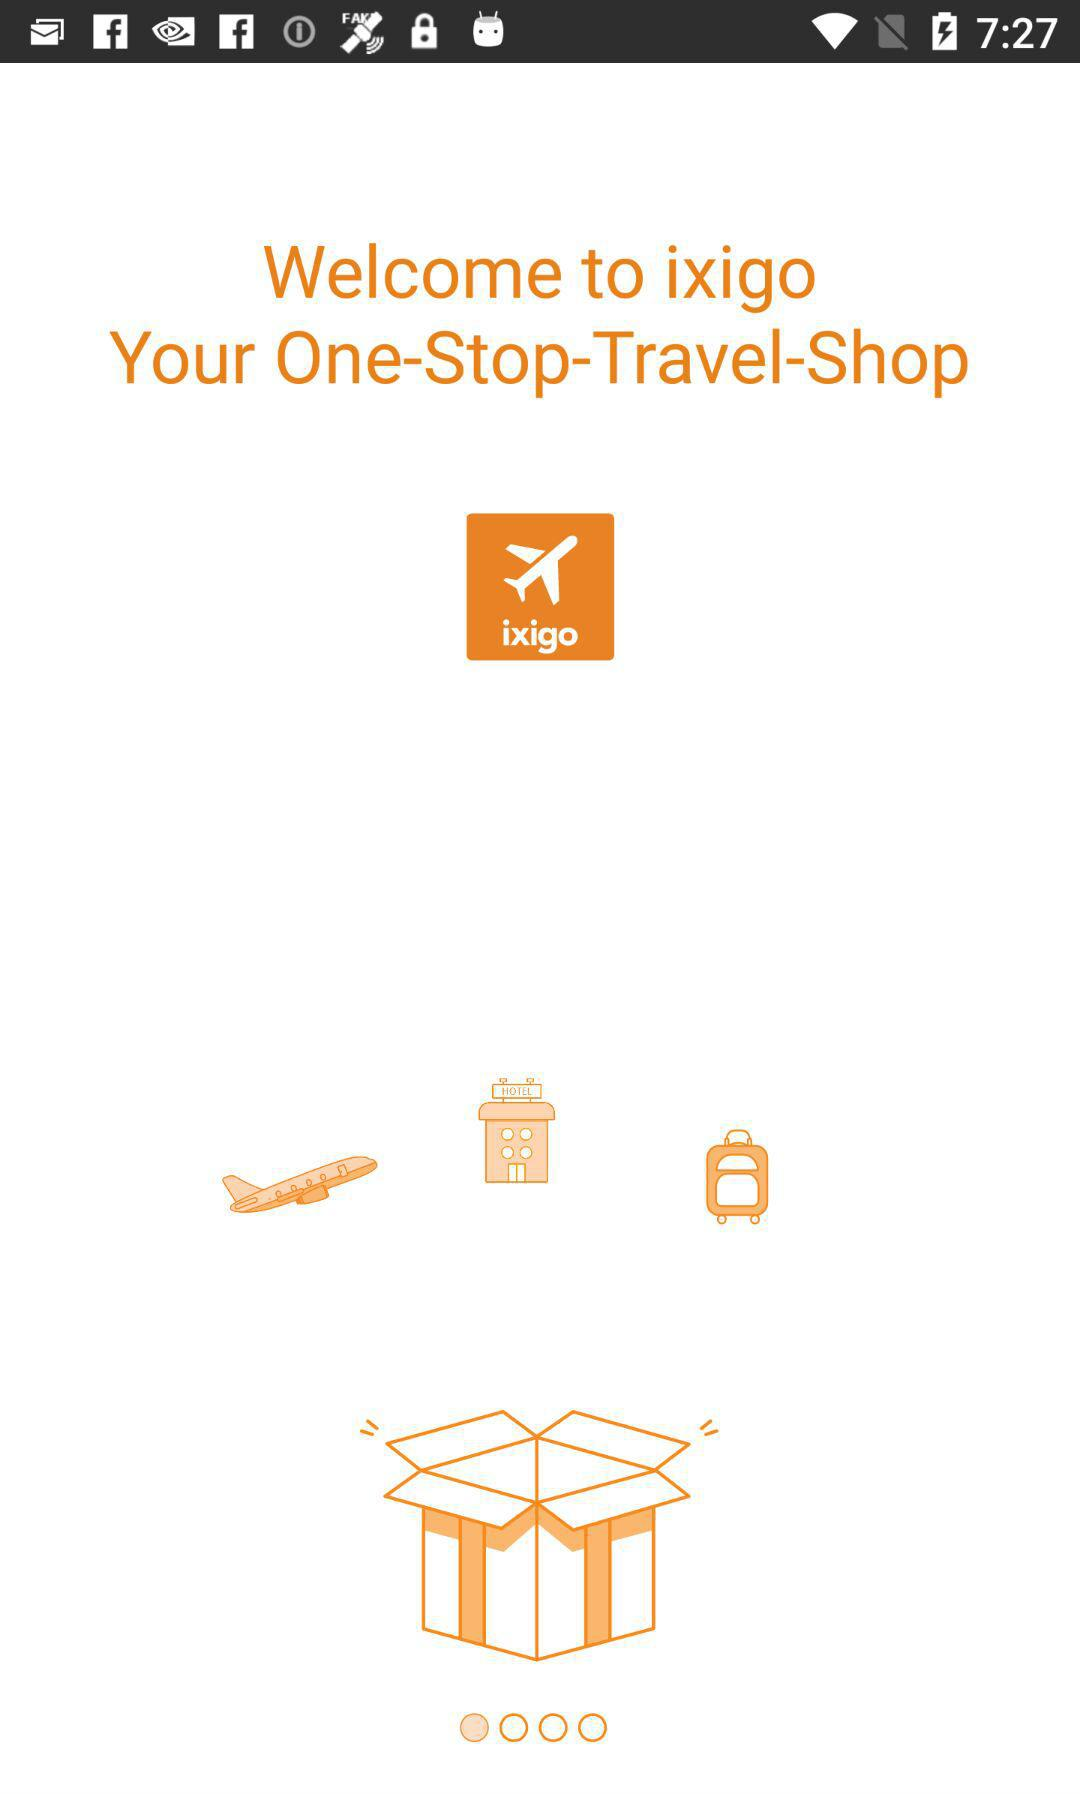Image: (357, 1407, 723, 1663), (468, 513, 616, 662), (222, 1155, 379, 1215), (478, 1076, 557, 1185), (705, 1129, 770, 1226)
PageIndicator: (459, 1711, 609, 1744)
Text: (109, 241, 970, 401)
UpperTaskBar: (1, 1, 1080, 64)
